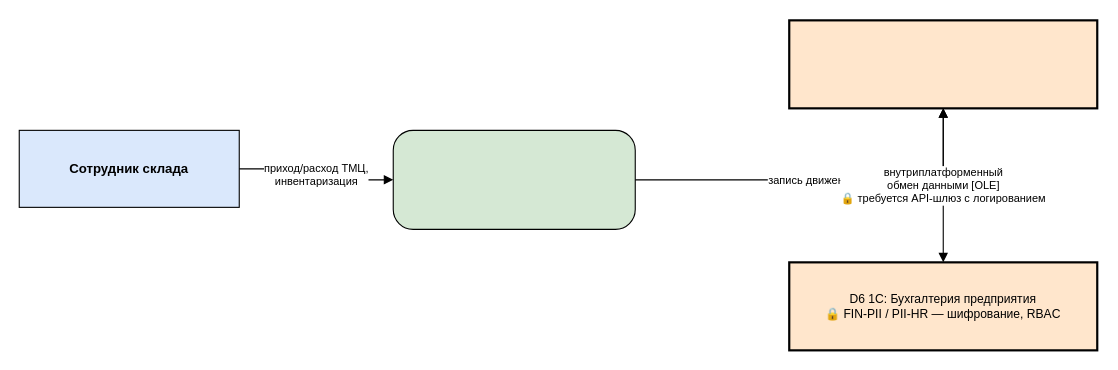
Image size: 1118x370. Some labels were removed from this diagram. Here are the shapes that lost their labels. From the top down, the centre of each, then its label:
At point 943,64: "D7 1С: Торговля и склад 🏷 INTERNAL — контроль целостности".
At point 513,179: "P9 Учёт товарно- материальных ценностей".
